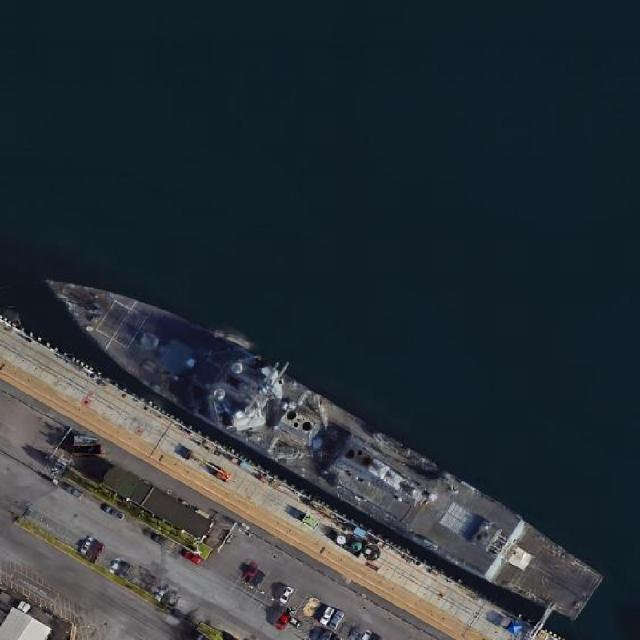Destroyer: (23, 245, 613, 633)
